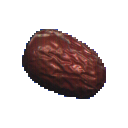gd: (15, 20, 128, 125)
